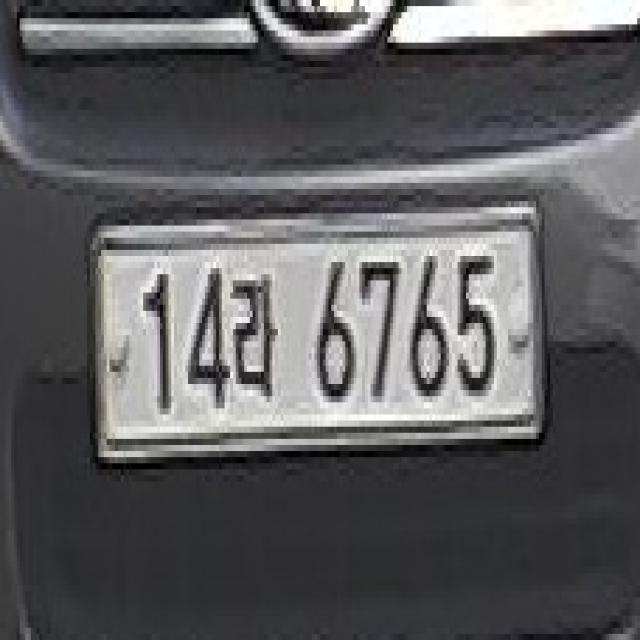1: (138, 256, 185, 433)
4: (185, 262, 233, 433)
5: (455, 238, 508, 408)
6: (312, 244, 359, 421), (410, 244, 455, 408)
7: (359, 244, 407, 414)
la: (233, 262, 283, 415)
license_plate: (87, 189, 556, 481)
